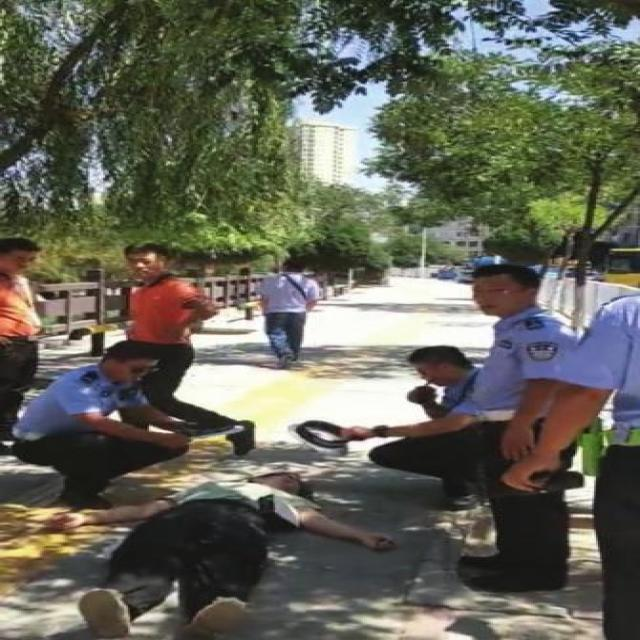fall: (48, 450, 388, 638), (463, 268, 587, 592), (14, 339, 190, 507), (118, 243, 258, 454), (336, 347, 510, 509), (0, 234, 45, 454), (250, 259, 325, 366)
